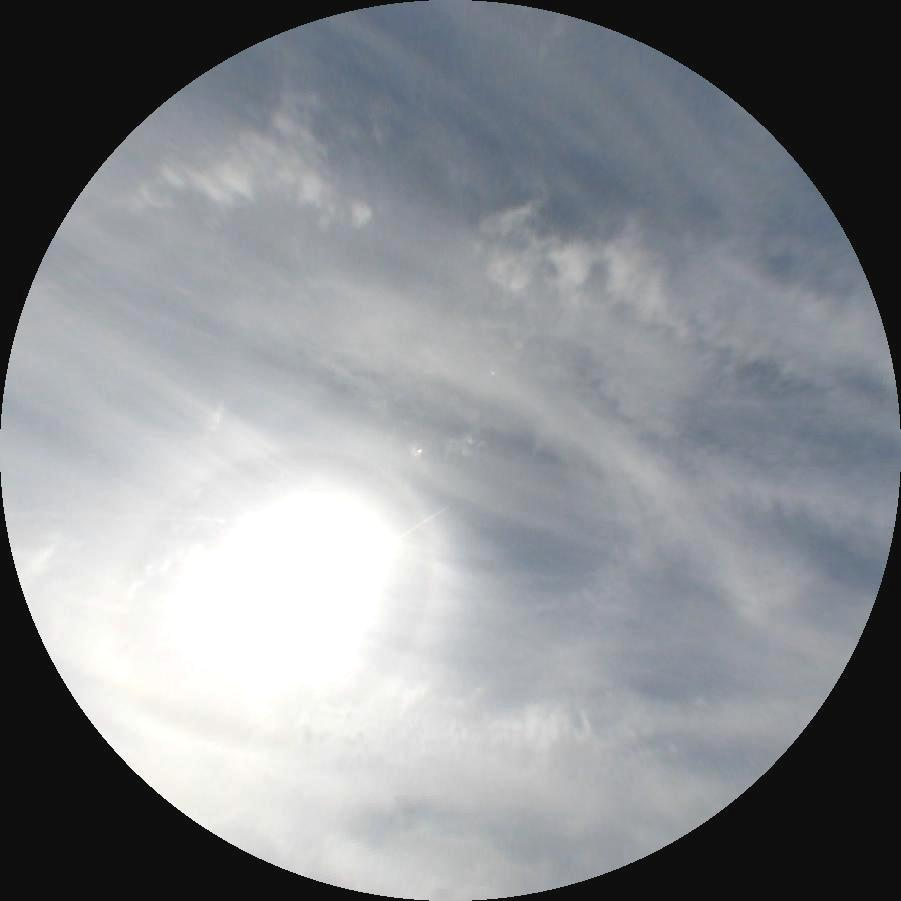contrail young: (353, 504, 451, 567)
parasite: (5, 510, 296, 524)
sun: (224, 504, 378, 647)
